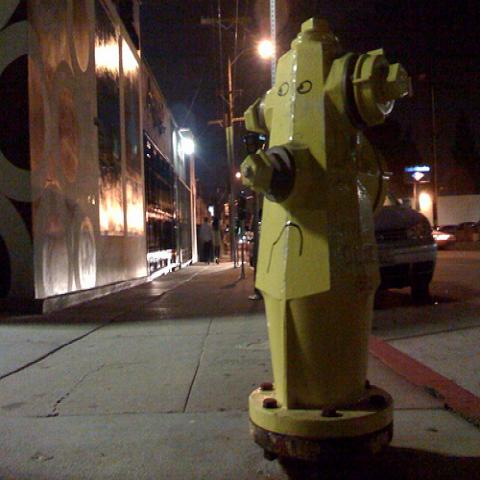car: (374, 205, 438, 305), (437, 224, 472, 241), (434, 229, 457, 250)
